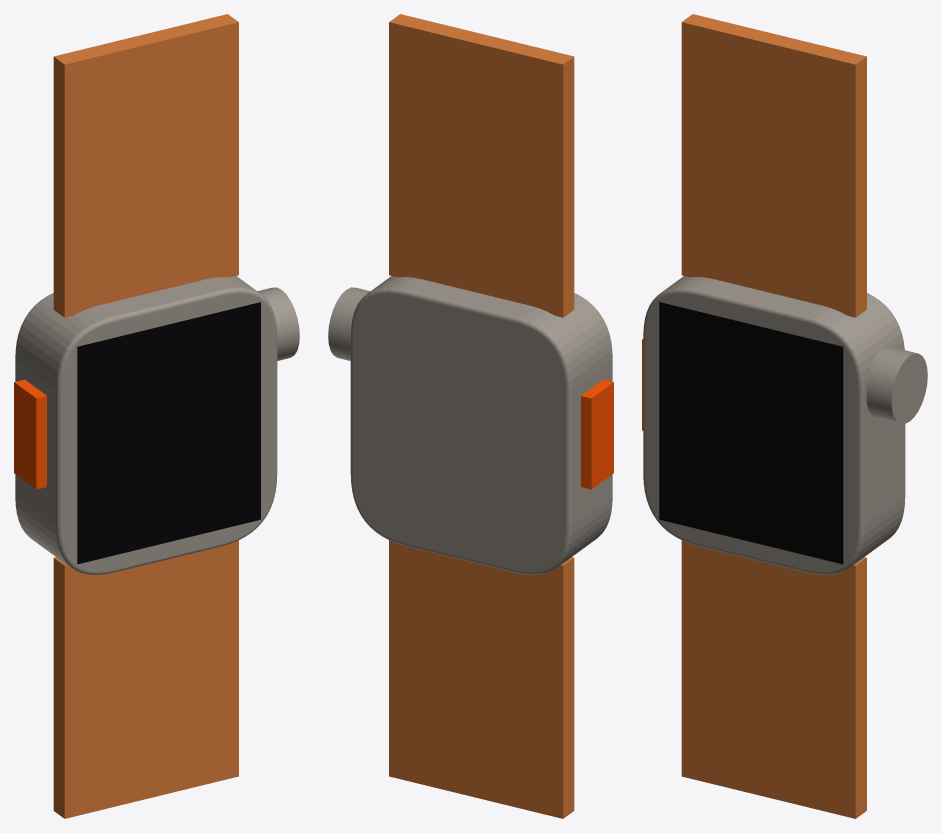
File: apple-watch-ultra-2.glb
3 renders of one model, left to right at view 1: azimuth 30°, elevation 25°; view 2: azimuth 150°, elevation 25°; view 3: azimuth 330°, elevation 25°, orthographic.
Bounding box in the file's own units: 0.053 × 0.149 × 0.0162.
